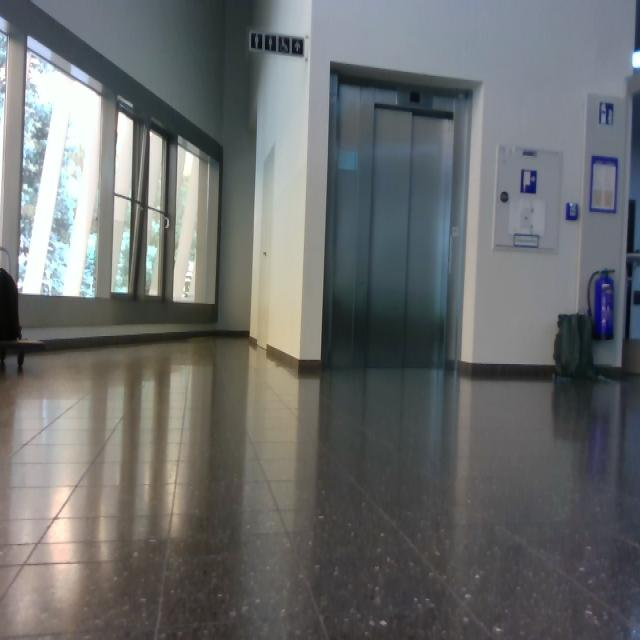door: (323, 73, 473, 372)
fire extinguisher: (588, 268, 615, 341)
light bulb: (631, 49, 640, 69)
pillar: (247, 1, 328, 364)
tiled floor: (2, 333, 639, 638)
window: (1, 12, 223, 325), (17, 35, 104, 299)
